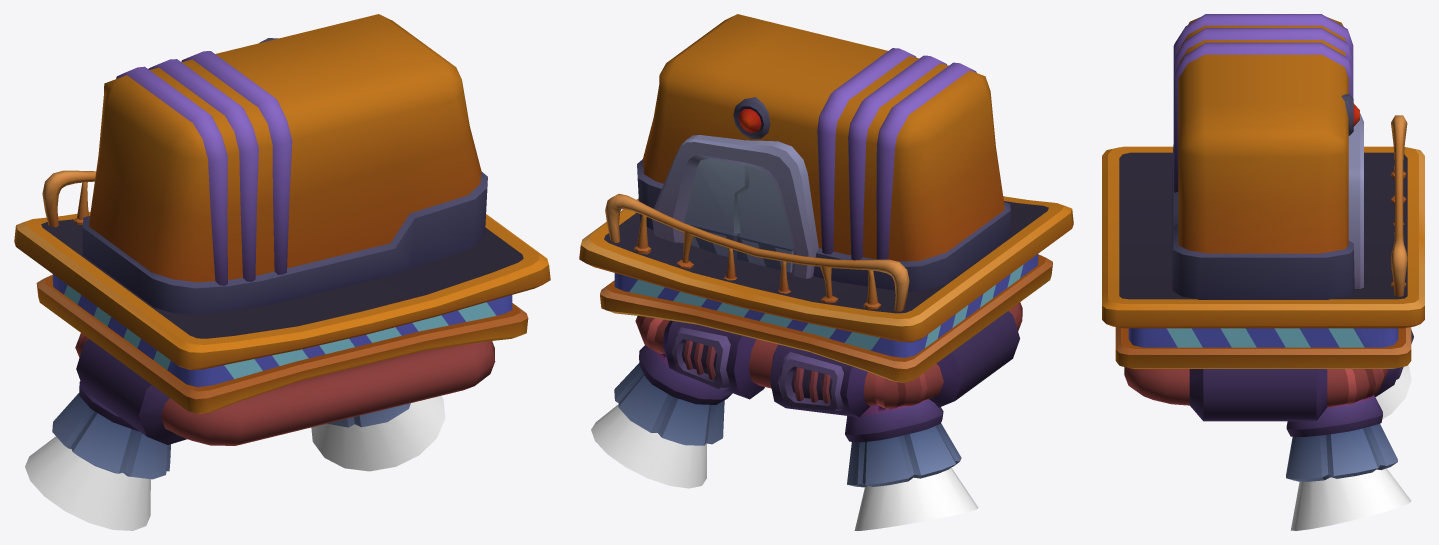
The model's file is SM_Camera_Room_02.fbx.
3 views of the same model, side by side, from view 1: azimuth 30°, elevation 25°; view 2: azimuth 150°, elevation 25°; view 3: azimuth 270°, elevation 25° (orthographic). The views are drawn at different scales.
Visible parts, largest first — view 1: SM_Camera_Room_02; view 2: SM_Camera_Room_02; view 3: SM_Camera_Room_02.
Boxes of the visible parts, x1=… form: SM_Camera_Room_02: x1=14, y1=14, x2=550, y2=530; SM_Camera_Room_02: x1=579, y1=14, x2=1073, y2=530; SM_Camera_Room_02: x1=1102, y1=14, x2=1424, y2=530.
Bounding box in the file's own units: 8.92 × 9.62 × 6.87.
